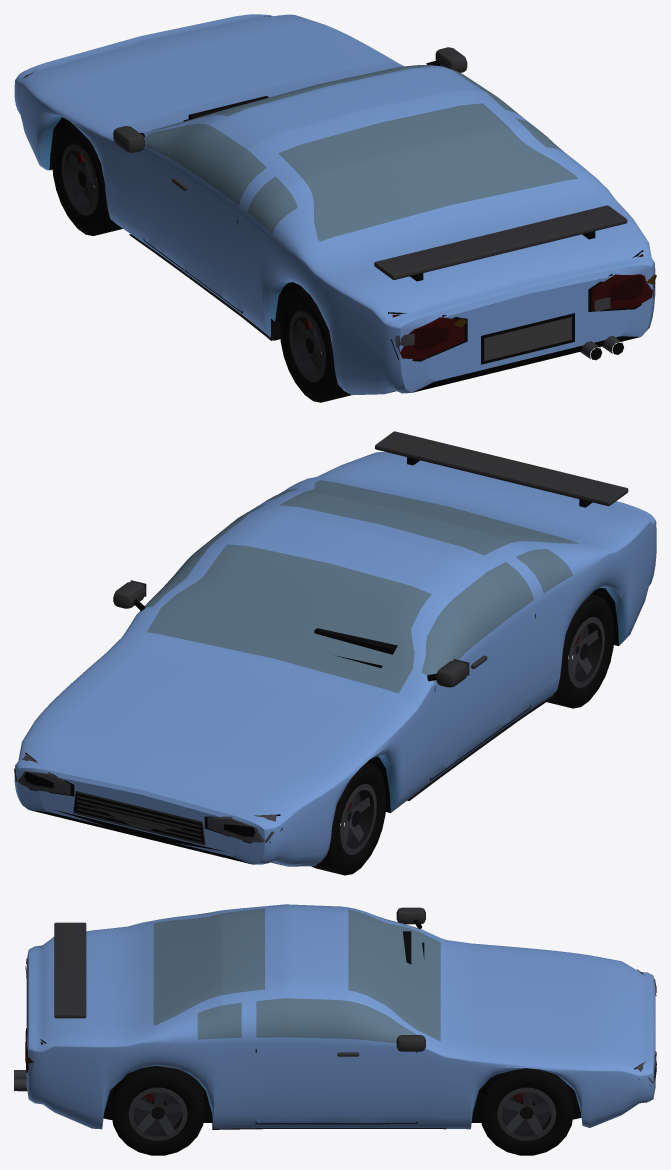
Rendered from cv2_coupe.glb.
3 views of the same model, one above another, from view 1: azimuth 30°, elevation 25°; view 2: azimuth 150°, elevation 25°; view 3: azimuth 270°, elevation 25° (orthographic). The views are drawn at different scales.
Visible parts, largest first — view 1: Body, DoorL_Mesh; view 2: Body, DoorL_Mesh; view 3: Body, DoorR_Mesh.
Boxes of the visible parts, x1,y1,x2,y2 form: Body: (14, 14, 656, 402); DoorL_Mesh: (139, 124, 265, 313); Body: (14, 431, 656, 875); DoorL_Mesh: (421, 573, 535, 767); Body: (14, 904, 656, 1155); DoorR_Mesh: (256, 998, 416, 1123).
Size of what is drawn, in the model's own units: 2.18 by 1.2 by 4.4.
